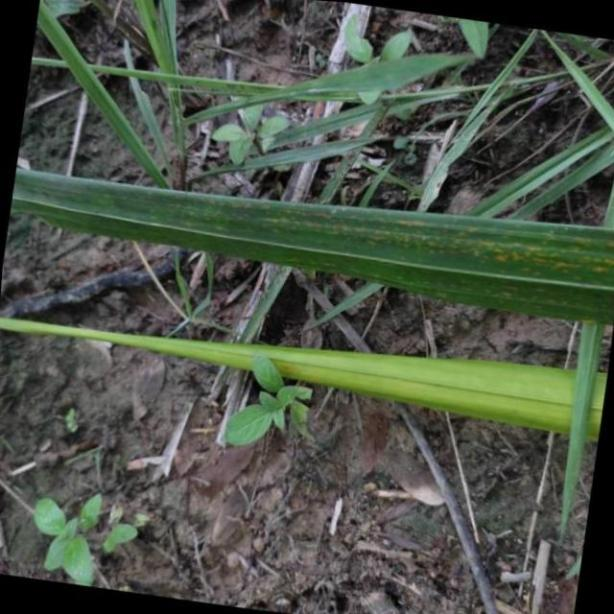nitrogen: (3, 307, 614, 449)
